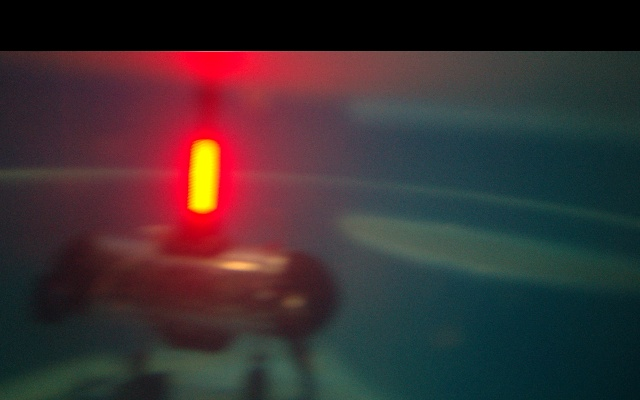red: (188, 140, 217, 216)
